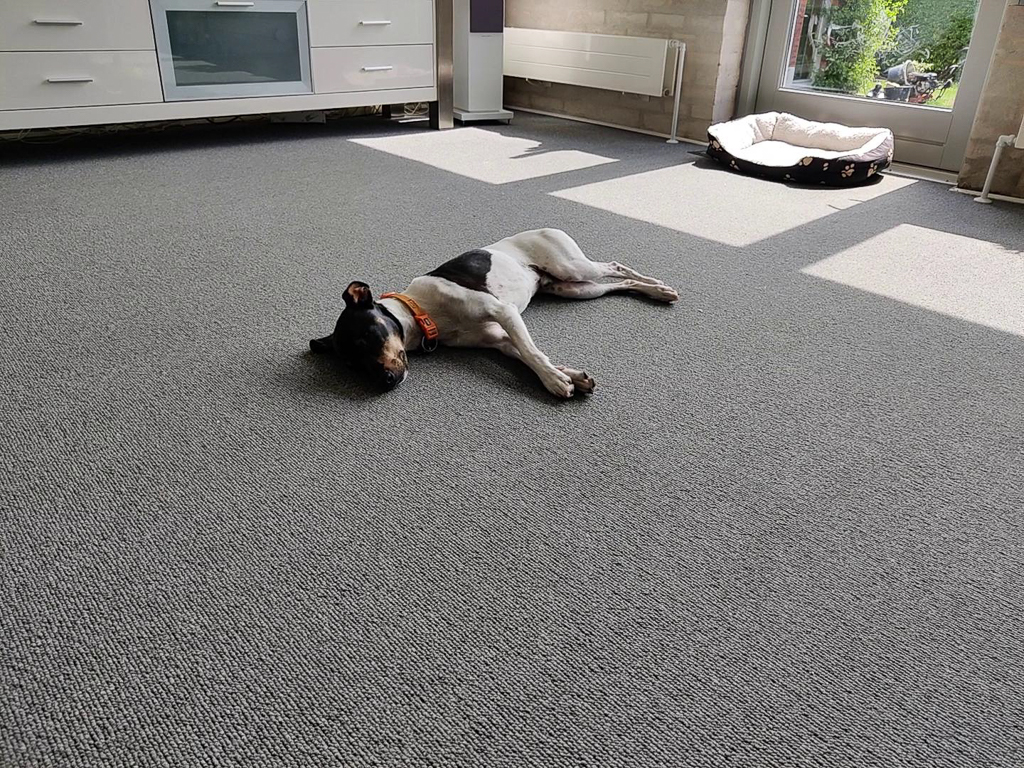Dog: (261, 184, 689, 438)
Eagle: (863, 81, 890, 101)
